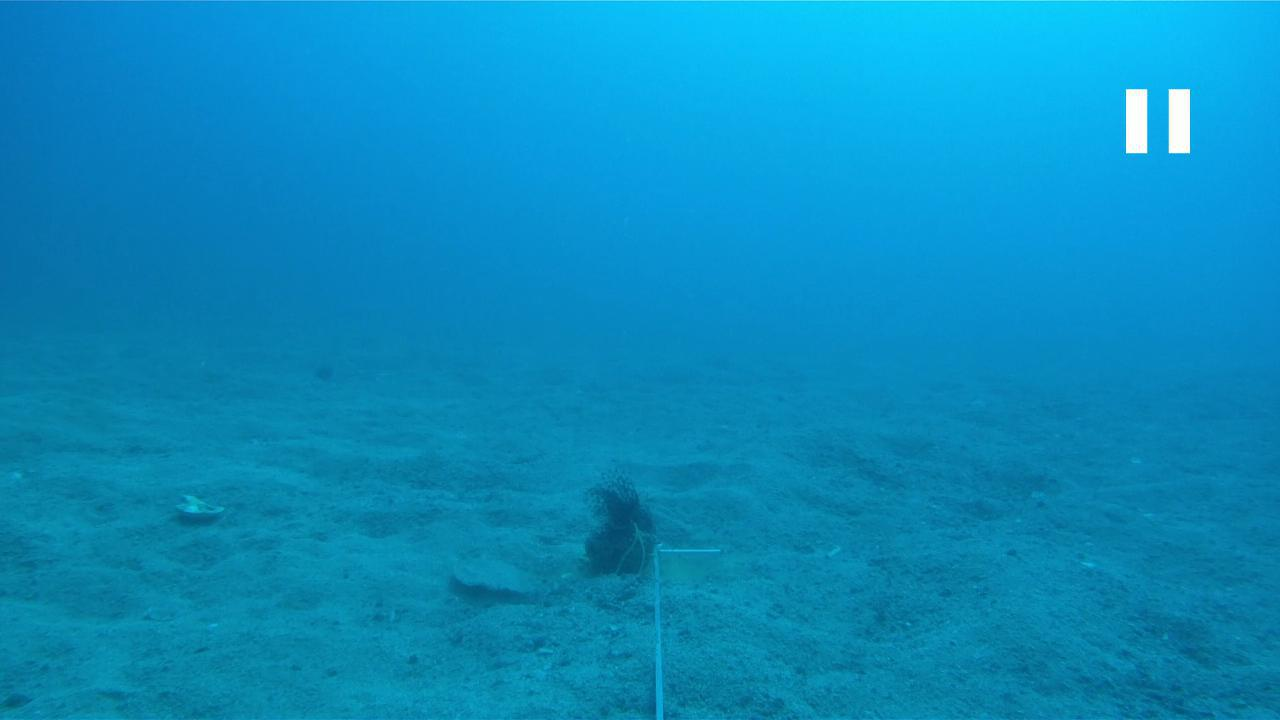bothus: (448, 550, 549, 609)
